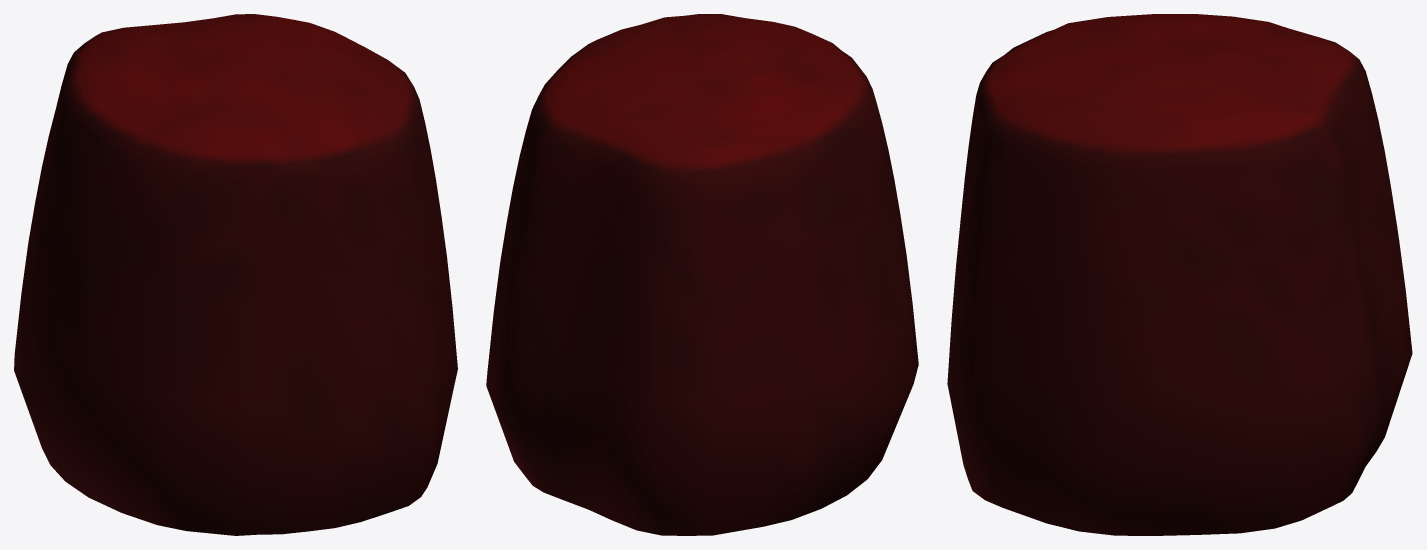
Rendered from geology-landforms-greenhillhuge_v3.fbx.
3 renders of one model, left to right at view 1: azimuth 30°, elevation 25°; view 2: azimuth 150°, elevation 25°; view 3: azimuth 270°, elevation 25°, orthographic. The views are drawn at different scales.
Visible parts, largest first — view 1: GreenHillHuge_v3; view 2: GreenHillHuge_v3; view 3: GreenHillHuge_v3.
Part boxes in pixels (<box>): GreenHillHuge_v3: <box>14,14,457,535</box>; GreenHillHuge_v3: <box>486,14,918,535</box>; GreenHillHuge_v3: <box>947,14,1412,535</box>.
Size of the model in its own units: 23.72 by 23.72 by 25.16.
